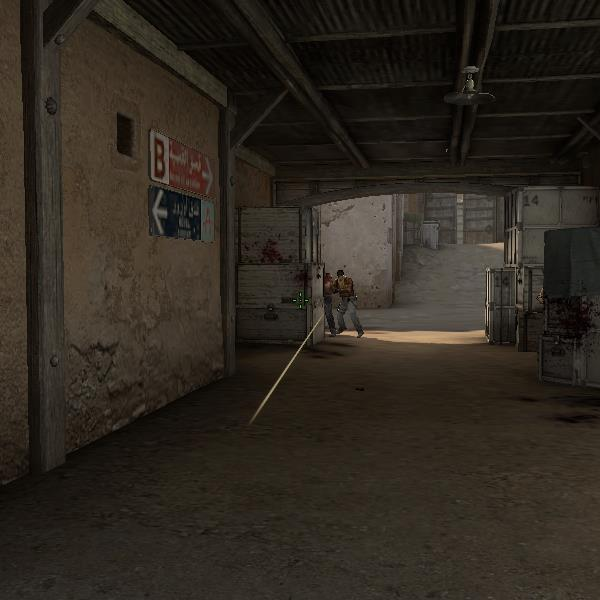t_body: (328, 268, 369, 341)
t_head: (334, 268, 348, 283)
